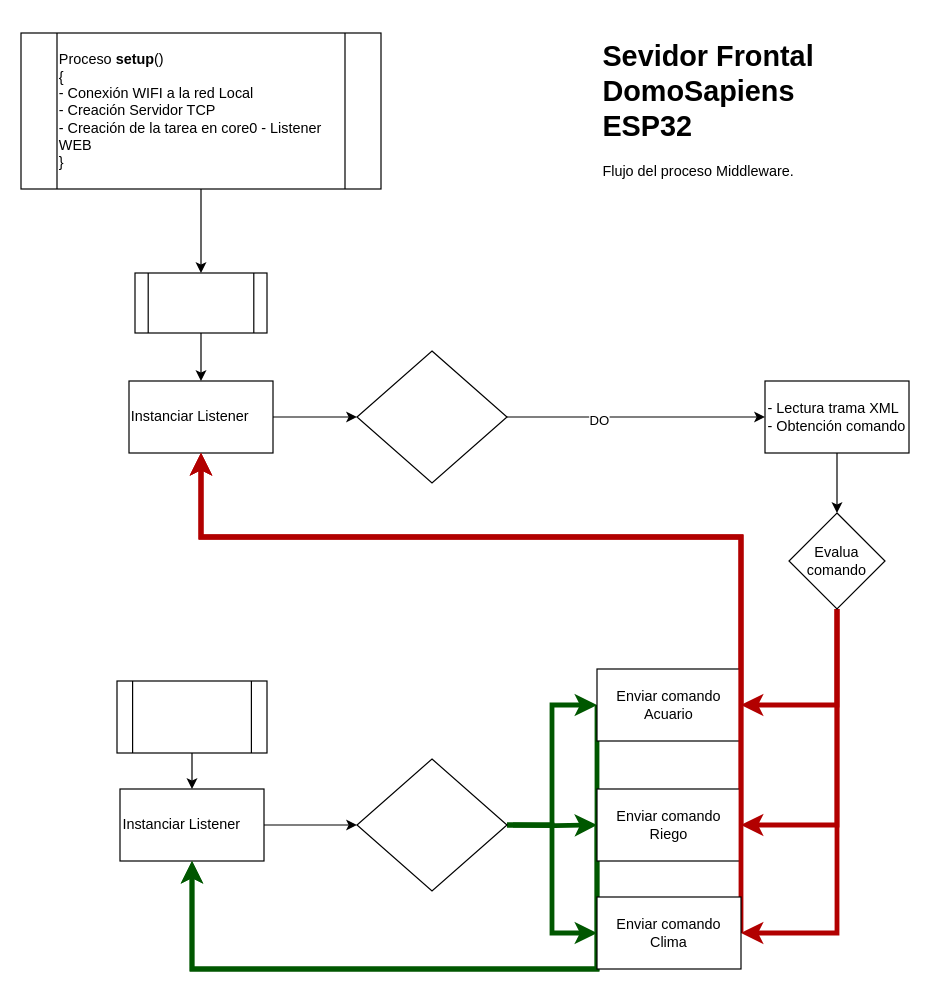
Image size: 930x1001. Some labels were removed from this diagram. Here are the shapes that lost their labels. From the top down, the centre of each, then its label:
At (200,302): "Core 1 Proceso loop () Listener TCP".
At (431,416): "While Cliente conectado".
At (191,716): "Core 0 Proceso loop2 () Listener WEB".
At (431,824): "On URI".
